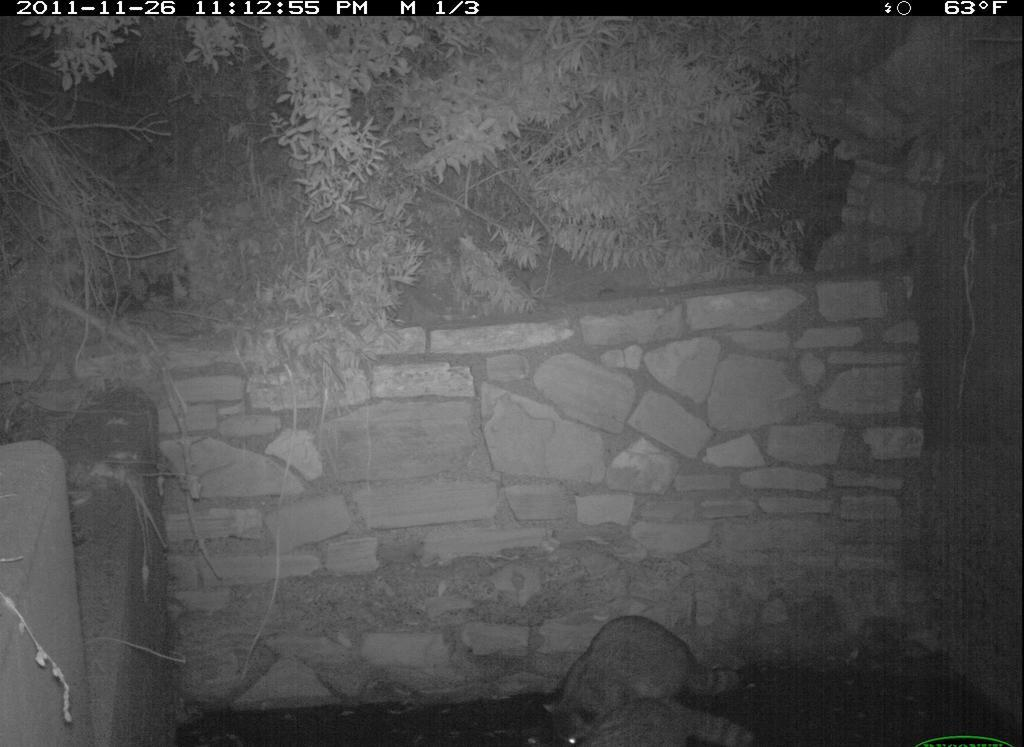raccoon: (519, 585, 774, 747)
